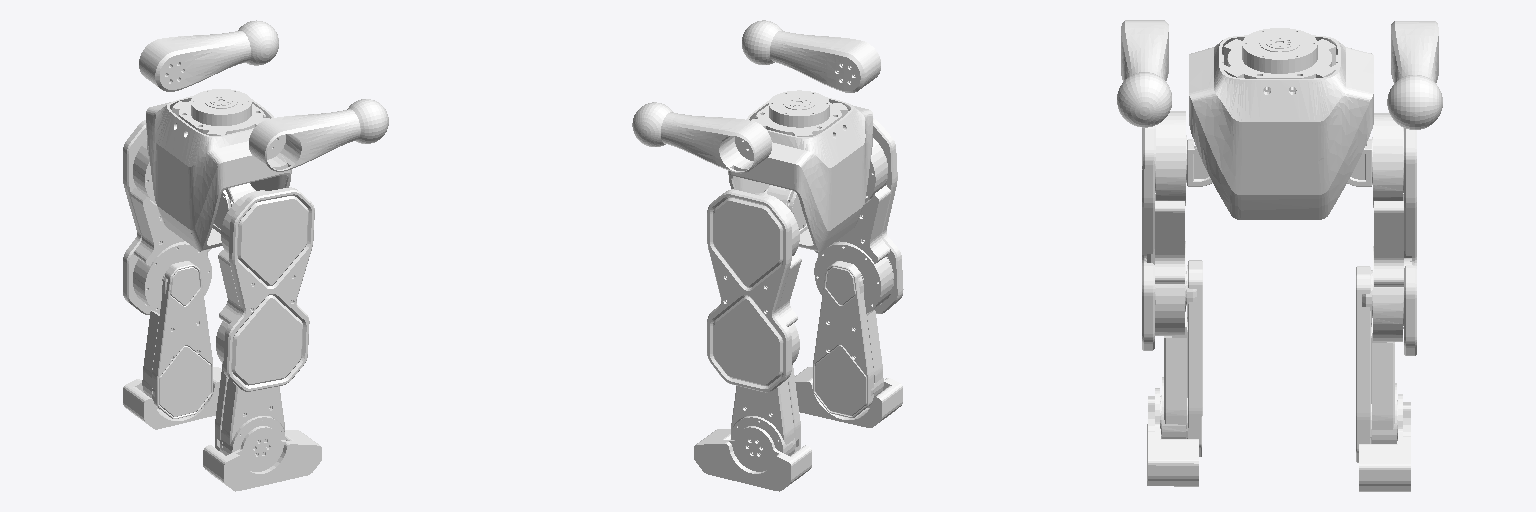
robot.urdf — RL_BOY:
<?xml version="1.0" encoding="utf-8"?>
<!-- This URDF was automatically created by SolidWorks to URDF Exporter! Originally created by Stephen Brawner (brawner@gmail.com) 
     Commit Version: 1.6.0-4-g7f85cfe  Build Version: 1.6.7995.38578
     For more information, please see http://wiki.ros.org/sw_urdf_exporter -->
<robot name="RL_BOY">
  <mujoco>
    <compiler meshdir="meshes/" balanceinertia="true" discardvisual="false" />
  </mujoco>
  <link name="base_link">
    <inertial>
      <origin xyz="-0.0068341 0 -0.00066845" rpy="0 0 0" />
      <mass value="1.5524024" />
      <inertia ixx="0.00443576" ixy="0" ixz="-7.824e-05" iyy="0.00291068" iyz="0" izz="0.00416971" />
    </inertial>
    <visual>
      <origin xyz="0 0 0" rpy="0 0 0" />
      <geometry>
        <mesh filename="./meshes/base_link.STL" />
      </geometry>
      <material name="">
        <color rgba="1 1 1 1" />
      </material>
    </visual>
    <collision>
      <origin xyz="-0.01 0 -0.05" rpy="0 0 0" />
      <geometry>
        <box size="0.13 0.13 0.14" />
      </geometry>
    </collision>
    <collision>
      <origin xyz="-0.01 0 0" rpy="0 0 0" />
      <geometry>
        <box size="0.13 0.18 0.05" />
      </geometry>
    </collision>
  </link>
  <link name="left_hip_yaw_link">
    <inertial>
      <origin xyz="-0.0049248 6.0504E-05 -0.037805" rpy="0 0 0" />
      <mass value="0.38839107" />
      <inertia ixx="0.00030408" ixy="5.6e-07" ixz="4.1e-06" iyy="0.00019525" iyz="-2e-07" izz="0.00017149" />
    </inertial>
    <visual>
      <origin xyz="0 0 0" rpy="0 0 0" />
      <geometry>
        <mesh filename="./meshes/left_hip_yaw_link.STL" />
      </geometry>
      <material name="">
        <color rgba="1 1 1 1" />
      </material>
    </visual>
    <!-- <collision>
      <origin xyz="0 0 0" rpy="0 0 0" />
      <geometry>
        <mesh filename="./meshes/left_hip_yaw_link.STL" />
      </geometry>
    </collision> -->
  </link>
  <joint name="left_hip_yaw_joint" type="revolute">
    <origin xyz="-0.012004 0.045 -0.0215" rpy="0 0 0" />
    <parent link="base_link" />
    <child link="left_hip_yaw_link" />
    <axis xyz="0 0 1" />
    <limit lower="-0.62" upper="0.62" effort="14" velocity="21" />
  </joint>
  <link name="left_hip_roll_link">
    <inertial>
      <origin xyz="0.00070722 0.02335 -0.0080221" rpy="0 0 0" />
      <mass value="0.06818185" />
      <inertia ixx="4.207e-05" ixy="6.52e-06" ixz="-2.03e-06" iyy="1.906e-05" iyz="8.2e-06" izz="3.37e-05" />
    </inertial>
    <visual>
      <origin xyz="0 0 0" rpy="0 0 0" />
      <geometry>
        <mesh filename="./meshes/left_hip_roll_link.STL" />
      </geometry>
      <material name="">
        <color rgba="1 1 1 1" />
      </material>
    </visual>
  </link>
  <joint name="left_hip_roll_joint" type="revolute">
    <origin xyz="0.010458 0 -0.044869" rpy="0 0 0" />
    <parent link="left_hip_yaw_link" />
    <child link="left_hip_roll_link" />
    <axis xyz="1 0 0" />
    <limit lower="-0.37" upper="0.41" effort="12" velocity="21" />
  </joint>
  <link name="left_hip_pitch_link">
    <inertial>
      <origin xyz="0.0028798 0.026896 -0.068731" rpy="0 0 0" />
      <mass value="1.285" />
      <inertia ixx="0.00764348" ixy="-7.97e-06" ixz="-1.88e-06" iyy="0.00831908" iyz="-1.244e-05" izz="0.00099704" />
    </inertial>
    <visual>
      <origin xyz="0 0 0" rpy="0 0 0" />
      <geometry>
        <mesh filename="./meshes/left_hip_pitch_link.STL" />
      </geometry>
      <material name="">
        <color rgba="1 1 1 1" />
      </material>
    </visual>
    <collision>
      <origin xyz="0 0.025 -0.07" rpy="0 0 0" />
      <geometry>
        <box size="0.1 0.04 0.16" />
      </geometry>
    </collision>
    <collision>
      <origin xyz="0 0.025 -0.15" rpy="1.57 0 0" />
      <geometry>
        <cylinder radius="0.045" length="0.04" />
      </geometry>
    </collision>
    <collision>
      <origin xyz="0 0.025 0.005" rpy="1.57 0 0" />
      <geometry>
        <cylinder radius="0.045" length="0.04" />
      </geometry>
    </collision>
  </link>
  <joint name="left_hip_pitch_joint" type="revolute">
    <origin xyz="-0.0105 0.047812 -0.015655" rpy="0 0 0" />
    <parent link="left_hip_roll_link" />
    <child link="left_hip_pitch_link" />
    <axis xyz="0 1 0" />
    <limit lower="-1.2" upper="1.2" effort="21" velocity="21" />
  </joint>
  <link name="left_knee_pitch_link">
    <inertial>
      <origin xyz="0.00028337 -2.3039E-05 -0.08296" rpy="0 0 0" />
      <mass value="0.62182839" />
      <inertia ixx="0.00152529" ixy="1.04e-06" ixz="-1.86e-06" iyy="0.00167204" iyz="0.00015643" izz="0.00032342" />
    </inertial>
    <visual>
      <origin xyz="0 0 0" rpy="0 0 0" />
      <geometry>
        <mesh filename="./meshes/left_knee_pitch_link.STL" />
      </geometry>
      <material name="">
        <color rgba="1 1 1 1" />
      </material>
    </visual>
  </link>
  <joint name="left_knee_pitch_joint" type="revolute">
    <origin xyz="0 0 -0.14738" rpy="0 0 0" />
    <parent link="left_hip_pitch_link" />
    <child link="left_knee_pitch_link" />
    <axis xyz="0 1 0" />
    <limit lower="0" upper="2.2" effort="21" velocity="21" />
  </joint>
  <link name="left_ankle_pitch_link">
    <inertial>
      <origin xyz="0.01791 -0.010434 -0.027532" rpy="0 0 0" />
      <mass value="0.096" />
      <inertia ixx="4.175e-05" ixy="5.31e-06" ixz="3.8e-07" iyy="0.00020541" iyz="-3.18e-06" izz="0.00020888" />
    </inertial>
    <visual>
      <origin xyz="0 0 0" rpy="0 0 0" />
      <geometry>
        <mesh filename="./meshes/left_ankle_pitch_link.STL" />
      </geometry>
      <material name="">
        <color rgba="1 1 1 1" />
      </material>
    </visual>
    <collision>
      <origin xyz="0.01 -0.01 -0.03" rpy="0 0 0" />
      <geometry>
        <box size="0.13 0.05 0.035" />
      </geometry>
    </collision>
  </link>
  <joint name="left_ankle_pitch_joint" type="revolute">
    <origin xyz="0.00012432 0.026 -0.14055" rpy="0 0 0" />
    <parent link="left_knee_pitch_link" />
    <child link="left_ankle_pitch_link" />
    <axis xyz="0 1 0" />
    <limit lower="-0.9" upper="0.9" effort="14" velocity="21" />
  </joint>
  <link name="right_hip_yaw_link">
    <inertial>
      <origin xyz="-0.0049208 1.8037E-05 -0.037908" rpy="0 0 0" />
      <mass value="0.38839126" />
      <inertia ixx="0.00030433" ixy="2e-07" ixz="3.33e-06" iyy="0.00019576" iyz="-4e-08" izz="0.00017124" />
    </inertial>
    <visual>
      <origin xyz="0 0 0" rpy="0 0 0" />
      <geometry>
        <mesh filename="./meshes/right_hip_yaw_link.STL" />
      </geometry>
      <material name="">
        <color rgba="1 1 1 1" />
      </material>
    </visual>
    <!-- <collision>
      <origin xyz="0 0 0" rpy="0 0 0" />
      <geometry>
        <mesh filename="./meshes/right_hip_yaw_link.STL" />
      </geometry>
    </collision> -->
  </link>
  <joint name="right_hip_yaw_joint" type="revolute">
    <origin xyz="-0.012004 -0.045 -0.0215" rpy="0 0 0" />
    <parent link="base_link" />
    <child link="right_hip_yaw_link" />
    <axis xyz="0 0 1" />
    <limit lower="-0.62" upper="0.62" effort="14" velocity="21" />
  </joint>
  <link name="right_hip_roll_link">
    <inertial>
      <origin xyz="-0.00029278 -0.023373 -0.0079539" rpy="0 0 0" />
      <mass value="0.06818185" />
      <inertia ixx="4.207e-05" ixy="-6.53e-06" ixz="-2.01e-06" iyy="1.901e-05" iyz="-8.16e-06" izz="3.375e-05" />
    </inertial>
    <visual>
      <origin xyz="0 0 0" rpy="0 0 0" />
      <geometry>
        <mesh filename="./meshes/right_hip_roll_link.STL" />
      </geometry>
      <material name="">
        <color rgba="1 1 1 1" />
      </material>
    </visual>
  </link>
  <joint name="right_hip_roll_joint" type="revolute">
    <origin xyz="0.011458 0 -0.044869" rpy="0 0 0" />
    <parent link="right_hip_yaw_link" />
    <child link="right_hip_roll_link" />
    <axis xyz="1 0 0" />
    <limit lower="-0.41" upper="0.37" effort="12" velocity="21" />
  </joint>
  <link name="right_hip_pitch_link">
    <inertial>
      <origin xyz="-0.0029487 -0.020467 -0.072574" rpy="0 0 0" />
      <mass value="1.4171108 " />
      <inertia ixx="0.00815934" ixy="1.38e-05" ixz="-0.00037173" iyy="0.00891871" iyz="-1.307e-05" izz="0.00115415" />
    </inertial>
    <visual>
      <origin xyz="0 0 0" rpy="0 0 0" />
      <geometry>
        <mesh filename="./meshes/right_hip_pitch_link.STL" />
      </geometry>
      <material name="">
        <color rgba="1 1 1 1" />
      </material>
    </visual>
    <collision>
      <origin xyz="0 -0.025 -0.07" rpy="0 0 0" />
      <geometry>
        <box size="0.1 0.04 0.16" />
      </geometry>
    </collision>
    <collision>
      <origin xyz="0 -0.025 -0.15" rpy="1.57 0 0" />
      <geometry>
        <cylinder radius="0.045" length="0.04" />
      </geometry>
    </collision>
    <collision>
      <origin xyz="0 -0.025 0.005" rpy="1.57 0 0" />
      <geometry>
        <cylinder radius="0.045" length="0.04" />
      </geometry>
    </collision>
  </link>
  <joint name="right_hip_pitch_joint" type="revolute">
    <origin xyz="-0.0115 -0.048352 -0.013358" rpy="0 0 0" />
    <parent link="right_hip_roll_link" />
    <child link="right_hip_pitch_link" />
    <axis xyz="0 1 0" />
    <limit lower="-1.2" upper="1.2" effort="21" velocity="21" />
  </joint>
  <link name="right_knee_pitch_link">
    <inertial>
      <origin xyz="0.000126592107821219 -0.00132176879731324 -0.0951083898058556" rpy="0 0 0" />
      <mass value=" 0.62182825" />
      <inertia ixx="0.00152506" ixy="-9.5e-07" ixz="-2.13e-06" iyy="0.00167104" iyz="-0.00016039" izz="0.00032448" />
    </inertial>
    <visual>
      <origin xyz="0 0 0" rpy="0 0 0" />
      <geometry>
        <mesh filename="./meshes/right_knee_pitch_link.STL" />
      </geometry>
      <material name="">
        <color rgba="1 1 1 1" />
      </material>
    </visual>
  </link>
  <joint name="right_knee_pitch_joint" type="revolute">
    <origin xyz="-0.0077589 -0.00042926 -0.14717" rpy="0 0 0" />
    <parent link="right_hip_pitch_link" />
    <child link="right_knee_pitch_link" />
    <axis xyz="0 1 0" />
    <limit lower="0" upper="2.2" effort="21" velocity="21" />
    <safety_controller soft_upper_limit="2.2" soft_lower_limit="0" k_position="21" k_velocity="21" />
  </joint>
  <link name="right_ankle_pitch_link">
    <inertial>
      <origin xyz="0.0180472426455031 0.00885135828132654 -0.0282361295461919" rpy="0 0 0" />
      <mass value="0.096 " />
      <inertia ixx="4.179e-05" ixy="-5.26e-06" ixz="2.71e-06" iyy="0.00020542" iyz="3.26e-06" izz="0.00020882" />
    </inertial>
    <visual>
      <origin xyz="0 0 0" rpy="0 0 0" />
      <geometry>
        <mesh filename="./meshes/right_ankle_pitch_link.STL" />
      </geometry>
      <material name="">
        <color rgba="1 1 1 1" />
      </material>
    </visual>
    <collision>
      <origin xyz="0.01 0.01 -0.03" rpy="0 0 0" />
      <geometry>
        <box size="0.13 0.05 0.035" />
      </geometry>
    </collision>
  </link>
  <joint name="right_ankle_pitch_joint" type="revolute">
    <origin xyz="-0.00039541 -0.024909 -0.14005" rpy="0 0 0" />
    <parent link="right_knee_pitch_link" />
    <child link="right_ankle_pitch_link" />
    <axis xyz="0 1 0" />
    <limit lower="-0.9" upper="0.9" effort="14" velocity="21" />
  </joint>
  <link name="waist_yaw_link">
    <inertial>
      <origin xyz="0.00766935409407382 0 0.129591637736552" rpy="0 0 0" />
      <mass value="2.1975996" />
      <inertia ixx="0.01274514" ixy="0" ixz="0.00047424" iyy="0.00915517" iyz="0" izz="0.00887444" />
    </inertial>
    <visual>
      <origin xyz="0 0 0" rpy="0 0 0" />
      <geometry>
        <mesh filename="./meshes/waist_yaw_link.STL" />
      </geometry>
      <material name="">
        <color rgba="1 1 1 1" />
      </material>
    </visual>
    <collision>
      <origin xyz="0 0 0.135" rpy="0 0 0" />
      <geometry>
        <box size="0.14 0.18 0.12" />
      </geometry>
    </collision>
  </link>
  <joint name="waist_yaw_joint" type="revolute">
    <origin xyz="-0.0050037 0 0.0155" rpy="0 0 0" />
    <parent link="base_link" />
    <child link="waist_yaw_link" />
    <axis xyz="0 0 1" />
    <limit lower="-0.8" upper="0.8" effort="14" velocity="21" />
  </joint>
  <link name="left_shoulder_pitch_link">
    <inertial>
      <origin xyz="0.000429914370268472 0.0262641836007404 0.00046752498931589" rpy="0 0 0" />
      <mass value="0.186 " />
      <inertia ixx="5.731e-05" ixy="-2.7e-07" ixz="-7e-08" iyy="5.082e-05" iyz="-2.7e-07" izz="5.054e-05" />
    </inertial>
    <visual>
      <origin xyz="0 0 0" rpy="0 0 0" />
      <geometry>
        <mesh filename="./meshes/left_shoulder_pitch_link.STL" />
      </geometry>
      <material name="">
        <color rgba="1 1 1 1" />
      </material>
    </visual>
  </link>
  <joint name="left_shoulder_pitch_joint" type="revolute">
    <origin xyz="0 0.1139 0.1685" rpy="0 0 0" />
    <parent link="waist_yaw_link" />
    <child link="left_shoulder_pitch_link" />
    <axis xyz="0 1 0" />
    <limit lower="-2.793" upper="2.793" effort="5" velocity="21" />
  </joint>
  <link name="left_shoulder_roll_link">
    <inertial>
      <origin xyz="-0.0158815168816101 0.000149139681466764 -0.0407115407833609" rpy="0 0 0" />
      <mass value="0.186" />
      <inertia ixx="8.304e-05" ixy="1.4e-07" ixz="-1.852e-05" iyy="9.062e-05" iyz="-7e-08" izz="5.939e-05" />
    </inertial>
    <visual>
      <origin xyz="0 0 0" rpy="0 0 0" />
      <geometry>
        <mesh filename="./meshes/left_shoulder_roll_link.STL" />
      </geometry>
      <material name="">
        <color rgba="1 1 1 1" />
      </material>
    </visual>
    <collision>
      <origin xyz="-0.02 0 -0.045" rpy="0 0 0" />
      <geometry>
        <cylinder length="0.1" radius="0.025" />
      </geometry>
    </collision>
    <collision>
      <origin xyz="-0.02 0 0.005" rpy="0 0 0" />
      <geometry>
        <sphere radius="0.03" />
      </geometry>
    </collision>
    
  </link>
  <joint name="left_shoulder_roll_joint" type="revolute">
    <origin xyz="0.021603 0.027929 0.00039063" rpy="0 0 0" />
    <parent link="left_shoulder_pitch_link" />
    <child link="left_shoulder_roll_link" />
    <axis xyz="1 0 0" />
    <limit lower="-0.2" upper="1.5" effort="5" velocity="21" />
  </joint>
  <link name="left_shoulder_yaw_link">
    <inertial>
      <origin xyz="-0.00233028000080568 0.00252087487153083 -0.034259704697803" rpy="0 0 0" />
      <mass value="0.226" />
      <inertia ixx="0.00019244" ixy="-1.07e-06" ixz="2.82e-06" iyy="0.00019055" iyz="-9.4e-07" izz="7.525e-05" />
    </inertial>
    <visual>
      <origin xyz="0 0 0" rpy="0 0 0" />
      <geometry>
        <mesh filename="./meshes/left_shoulder_yaw_link.STL" />
      </geometry>
      <material name="">
        <color rgba="1 1 1 1" />
      </material>
    </visual>
  </link>
  <joint name="left_shoulder_yaw_joint" type="revolute">
    <origin xyz="-0.022771 0.0001351 -0.075197" rpy="0 0 0" />
    <parent link="left_shoulder_roll_link" />
    <child link="left_shoulder_yaw_link" />
    <axis xyz="0 0 1" />
    <limit lower="-0.5" upper="0.5" effort="5" velocity="21" />
  </joint>
  <link name="left_elbow_pitch_link">
    <inertial>
      <origin xyz="0.075521700943755 0.0130833500262611 0.000382990510718252" rpy="0 0 0" />
      <mass value="0.105" />
      <inertia ixx="3.61e-05" ixy="-9.64e-06" ixz="-3.3e-07" iyy="0.0002525" iyz="-1.5e-07" izz="0.00025009" />
    </inertial>
    <visual>
      <origin xyz="0 0 0" rpy="0 0 0" />
      <geometry>
        <mesh filename="./meshes/left_elbow_pitch_link.STL" />
      </geometry>
      <material name="">
        <color rgba="1 1 1 1" />
      </material>
    </visual>
    <collision>
      <!-- Simplified: cylinder + spheres approximating elbow link shape -->
      <!-- COM: 0.076 0.013 0.0, cylinder along X-axis -->
      <origin xyz="0.076 0.013 0.0" rpy="0 1.57 0" />
      <geometry>
        <cylinder radius="0.02" length="0.12" />
      </geometry>
    </collision>
    <collision>
      <origin xyz="0.006 0.013 0.0" rpy="0 0 0" />
      <geometry>
        <sphere radius="0.025" />
      </geometry>
    </collision>
    <collision>
      <origin xyz="0.136 0.013 0.0" rpy="0 0 0" />
      <geometry>
        <sphere radius="0.025" />
      </geometry>
    </collision>
  </link>
  <joint name="left_elbow_pitch_joint" type="revolute">
    <origin xyz="-0.00051802 -0.020671 -0.063763" rpy="0 0 0" />
    <parent link="left_shoulder_yaw_link" />
    <child link="left_elbow_pitch_link" />
    <axis xyz="0 1 0" />
    <limit lower="-1" upper="1.57" effort="5" velocity="21" />
  </joint>
  <link name="right_shoulder_pitch_link">
    <inertial>
      <origin xyz="0.00042984305500357 -0.0261706167503425 0.000519939729923702" rpy="0 0 0" />
      <mass value="0.186" />
      <inertia ixx="5.728e-05" ixy="6.2e-07" ixz="1.3e-07" iyy="5.099e-05" iyz="1.7e-07" izz="5.034e-05" />
    </inertial>
    <visual>
      <origin xyz="0 0 0" rpy="0 0 0" />
      <geometry>
        <mesh filename="./meshes/right_shoulder_pitch_link.STL" />
      </geometry>
      <material name="">
        <color rgba="1 1 1 1" />
      </material>
    </visual>
  </link>
  <joint name="right_shoulder_pitch_joint" type="revolute">
    <origin xyz="0 -0.1139 0.1685" rpy="0 0 0" />
    <parent link="waist_yaw_link" />
    <child link="right_shoulder_pitch_link" />
    <axis xyz="0 1 0" />
    <limit lower="-2.793" upper="2.793" effort="5" velocity="21" />
  </joint>
  <link name="right_shoulder_roll_link">
    <inertial>
      <origin xyz="-0.0158403302802371 -9.23318084443958E-05 -0.0407116397577024" rpy="0 0 0" />
      <mass value="0.186" />
      <inertia ixx="8.325e-05" ixy="-4e-08" ixz="-1.864e-05" iyy="9.036e-05" iyz="-9e-08" izz="5.935e-05" />
    </inertial>
    <visual>
      <origin xyz="0 0 0" rpy="0 0 0" />
      <geometry>
        <mesh filename="./meshes/right_shoulder_roll_link.STL" />
      </geometry>
      <material name="">
        <color rgba="1 1 1 1" />
      </material>
    </visual>
    <collision>
      <origin xyz="-0.02 0 -0.045" rpy="0 0 0" />
      <geometry>
        <cylinder length="0.1" radius="0.025" />
      </geometry>
    </collision>
    <collision>
      <origin xyz="-0.02 0 0.005" rpy="0 0 0" />
      <geometry>
        <sphere radius="0.03" />
      </geometry>
    </collision>
  </link>
  <joint name="right_shoulder_roll_joint" type="revolute">
    <origin xyz="0.021603 -0.027929 0.00039063" rpy="0 0 0" />
    <parent link="right_shoulder_pitch_link" />
    <child link="right_shoulder_roll_link" />
    <axis xyz="1 0 0" />
    <limit lower="-1.5" upper="0.2" effort="5" velocity="21" />
  </joint>
  <link name="right_shoulder_yaw_link">
    <inertial>
      <origin xyz="-0.00236315972253617 -0.0024954302365221 -0.0340295124127358" rpy="0 0 0" />
      <mass value="0.226" />
      <inertia ixx="0.00019048" ixy="8.5e-07" ixz="2.56e-06" iyy="0.00018836" iyz="1e-06" izz="7.498e-05" />
    </inertial>
    <visual>
      <origin xyz="0 0 0" rpy="0 0 0" />
      <geometry>
        <mesh filename="./meshes/right_shoulder_yaw_link.STL" />
      </geometry>
      <material name="">
        <color rgba="1 1 1 1" />
      </material>
    </visual>
  </link>
  <joint name="right_shoulder_yaw_joint" type="revolute">
    <origin xyz="-0.022771 -0.0001351 -0.075197" rpy="0 0 0" />
    <parent link="right_shoulder_roll_link" />
    <child link="right_shoulder_yaw_link" />
    <axis xyz="0 0 1" />
    <limit lower="-0.5" upper="0.5" effort="5" velocity="21" />
  </joint>
  <link name="right_elbow_pitch_link">
    <inertial>
      <origin xyz="0.0754074095645093 -0.0130595139222775 0.00164384360473727" rpy="0 0 0" />
      <mass value="0.105" />
      <inertia ixx="3.618e-05" ixy="9.81e-06" ixz="-3.92e-06" iyy="0.00025296" iyz="3.1e-07" izz="0.00025053" />
    </inertial>
    <visual>
      <origin xyz="0 0 0" rpy="0 0 0" />
      <geometry>
        <mesh filename="./meshes/right_elbow_pitch_link.STL" />
      </geometry>
      <material name="">
        <color rgba="1 1 1 1" />
      </material>
    </visual>
    <collision>
      <origin xyz="0.076 -0.013 0.0016" rpy="0 1.57 0" />
      <geometry>
        <cylinder radius="0.02" length="0.12" />
      </geometry>
    </collision>
    <collision>
      <origin xyz="0.006 -0.013 0.0016" rpy="0 0 0" />
      <geometry>
        <sphere radius="0.025" />
      </geometry>
    </collision>
    <collision>
      <origin xyz="0.136 -0.013 0.0016" rpy="0 0 0" />
      <geometry>
        <sphere radius="0.025" />
      </geometry>
    </collision>
  </link>
  <joint name="right_elbow_pitch_joint" type="revolute">
    <origin xyz="-0.00051869 0.020671 -0.063257" rpy="0 0 0" />
    <parent link="right_shoulder_yaw_link" />
    <child link="right_elbow_pitch_link" />
    <axis xyz="0 1 0" />
    <limit lower="-1" upper="1.57" effort="5" velocity="21" />
  </joint>
  <link name="head_yaw_link">
    <inertial>
      <origin xyz="-0.0145353626175872 0 0.052966639815973" rpy="0 0 0" />
      <mass value="0.62157092" />
      <inertia ixx="0.00272342" ixy="0" ixz="0.00016772" iyy="0.00273908" iyz="0" izz="0.00332125" />
    </inertial>
    <visual>
      <origin xyz="0 0 0" rpy="0 0 0" />
      <geometry>
        <mesh filename="./meshes/head_yaw_link.STL" />
      </geometry>
      <material name="">
        <color rgba="1 1 1 1" />
      </material>
    </visual>
    <collision>
      <origin xyz="0 0 0.05" rpy="0 0 0" />
      <geometry>
        <sphere radius="0.1" />
      </geometry>
    </collision>
  </link>
  <joint name="head_yaw_joint" type="revolute">
    <origin xyz="0.0054958 0 0.2464" rpy="0 0 0" />
    <parent link="waist_yaw_link" />
    <child link="head_yaw_link" />
    <axis xyz="0 0 1" />
    <limit lower="-1" upper="1" effort="5" velocity="21" />
  </joint>
</robot>

--- Render facts (derived) ---
The picture shows the robot from 3 angles, left to right: view 1: azimuth 30°, elevation 25°; view 2: azimuth 150°, elevation 25°; view 3: azimuth 270°, elevation 25°; orthographic projection.
Model RL_BOY with 21 links and 20 joints (20 revolute), rooted at base_link, posed every joint at zero.
Links seen in each view (by area): view 1: right_hip_pitch_link, base_link, left_knee_pitch_link, left_hip_pitch_link, right_elbow_pitch_link, left_elbow_pitch_link, right_ankle_pitch_link, right_knee_pitch_link, left_ankle_pitch_link, right_hip_yaw_link; view 2: left_hip_pitch_link, base_link, right_knee_pitch_link, right_hip_pitch_link, right_elbow_pitch_link, left_elbow_pitch_link, left_ankle_pitch_link, left_knee_pitch_link, right_ankle_pitch_link, left_hip_yaw_link; view 3: base_link, left_hip_pitch_link, right_hip_pitch_link, right_knee_pitch_link, left_knee_pitch_link, left_elbow_pitch_link, right_elbow_pitch_link, left_ankle_pitch_link, right_ankle_pitch_link, right_hip_roll_link, left_hip_roll_link.
Link boxes in pixels (left/top/right/bottom): right_hip_pitch_link: left=216, top=187, right=314, bottom=391; base_link: left=146, top=89, right=291, bottom=250; left_knee_pitch_link: left=142, top=261, right=212, bottom=418; left_hip_pitch_link: left=123, top=120, right=211, bottom=314; right_elbow_pitch_link: left=249, top=99, right=388, bottom=171; left_elbow_pitch_link: left=139, top=20, right=278, bottom=91; right_ankle_pitch_link: left=203, top=426, right=321, bottom=491; right_knee_pitch_link: left=215, top=364, right=285, bottom=455; left_ankle_pitch_link: left=123, top=367, right=221, bottom=429; right_hip_yaw_link: left=214, top=183, right=253, bottom=228; left_hip_pitch_link: left=707, top=189, right=801, bottom=392; base_link: left=728, top=90, right=872, bottom=251; right_knee_pitch_link: left=813, top=261, right=883, bottom=417; right_hip_pitch_link: left=814, top=118, right=903, bottom=313; right_elbow_pitch_link: left=742, top=20, right=880, bottom=92; left_elbow_pitch_link: left=632, top=102, right=771, bottom=173; left_ankle_pitch_link: left=694, top=426, right=811, bottom=491; left_knee_pitch_link: left=731, top=365, right=800, bottom=455; right_ankle_pitch_link: left=795, top=367, right=902, bottom=427; left_hip_yaw_link: left=767, top=185, right=806, bottom=229; base_link: left=1189, top=28, right=1373, bottom=219; left_hip_pitch_link: left=1372, top=113, right=1416, bottom=355; right_hip_pitch_link: left=1142, top=111, right=1186, bottom=350; right_knee_pitch_link: left=1160, top=260, right=1202, bottom=456; left_knee_pitch_link: left=1356, top=266, right=1397, bottom=462; left_elbow_pitch_link: left=1387, top=21, right=1442, bottom=129; right_elbow_pitch_link: left=1117, top=20, right=1171, bottom=127; left_ankle_pitch_link: left=1359, top=394, right=1410, bottom=491; right_ankle_pitch_link: left=1147, top=388, right=1198, bottom=486; right_hip_roll_link: left=1187, top=139, right=1212, bottom=186; left_hip_roll_link: left=1347, top=139, right=1371, bottom=186.
Bounding box of the posed robot: 0.2293 × 0.327 × 0.4945 m (x, y, z).
Meshes: 21 distinct files referenced, 13 mesh visuals loaded (13 binary STL); not drawn: 8 (reference not matched to a file when rendering).
